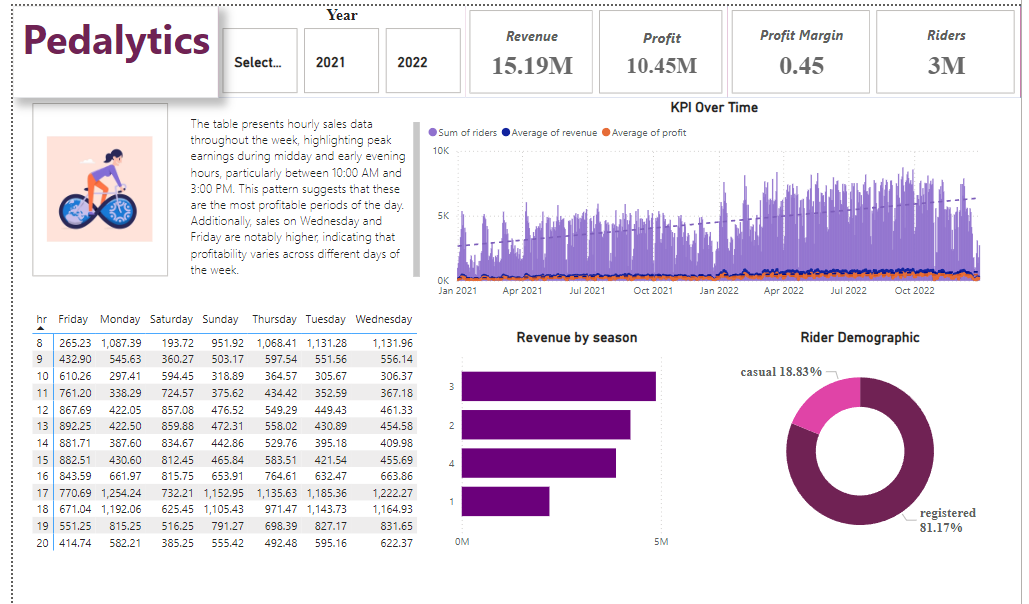

Layout of this report page (visuals, bound fields, positions):
{"tool":"powerbi","page":{"name":"Page 1","canvas":[1280,720],"ordinal":0},"visuals":[{"type":"shape","box":[0,0,1250,110],"z":0},{"type":"cardVisual","fields":{"Data":["Min(Query1.riders)"]},"box":[18.3,111.7,173.3,218.3],"z":1000},{"type":"pivotTable","fields":{"Rows":["Query1.hr"],"Values":["Avg(Query1.revenue)"],"Columns":["Query1.weekname"]},"box":[18.3,360,475,333.3],"z":2000},{"type":"lineClusteredColumnComboChart","title":"KPI Over Time","fields":{"Category":["Query1.dteday"],"Y":["Sum(Query1.riders)"],"Y2":["Avg(Query1.revenue)","Avg(Query1.profit)"]},"box":[493.3,111.7,698.3,248.3],"z":3000},{"type":"barChart","title":"Revenue by season","fields":{"Category":["Query1.season"],"Y":["Sum(Query1.revenue)"]},"box":[515,388.3,325,273.3],"z":4000},{"type":"donutChart","title":"Rider Demographic","fields":{"Category":["Query1.rider_type"],"Y":["Sum(Query1.riders)"]},"box":[843.3,388.3,348.3,273.3],"z":5000},{"type":"cardVisual","fields":{"Data":["Sum(Query1.revenue)","Sum(Query1.profit)"]},"box":[543.3,0,315,110],"z":6000},{"type":"cardVisual","fields":{"Data":["Query1.Profit Margin","Sum(Query1.riders)"]},"box":[858.3,0,351.7,110],"z":7000},{"type":"textbox","box":[208.3,130,285,200],"z":8000},{"type":"advancedSlicerVisual","fields":{"Values":["Query1.Year"]},"box":[246.7,0,296.7,110],"z":9000},{"type":"textbox","box":[0,0,246.7,110],"z":11000}]}

Visuals, with their boxes on the page's 1280x720 design canvas (x1, y1, x2, y2). These are canvas units, not pixel positions in the 1029x604 screenshot, which may show the page scaled, cropped or inside an application window:
shape: l=0, t=0, r=1250, b=110
cardVisual - Min(Query1.riders): l=18, t=112, r=192, b=330
pivotTable - Query1.hr x Avg(Query1.revenue): l=18, t=360, r=493, b=693
"KPI Over Time" lineClusteredColumnComboChart: l=493, t=112, r=1192, b=360
"Revenue by season" barChart: l=515, t=388, r=840, b=662
"Rider Demographic" donutChart: l=843, t=388, r=1192, b=662
cardVisual - Sum(Query1.revenue) x Sum(Query1.profit): l=543, t=0, r=858, b=110
cardVisual - Query1.Profit Margin x Sum(Query1.riders): l=858, t=0, r=1210, b=110
textbox: l=208, t=130, r=493, b=330
advancedSlicerVisual - Query1.Year: l=247, t=0, r=543, b=110
textbox: l=0, t=0, r=247, b=110
